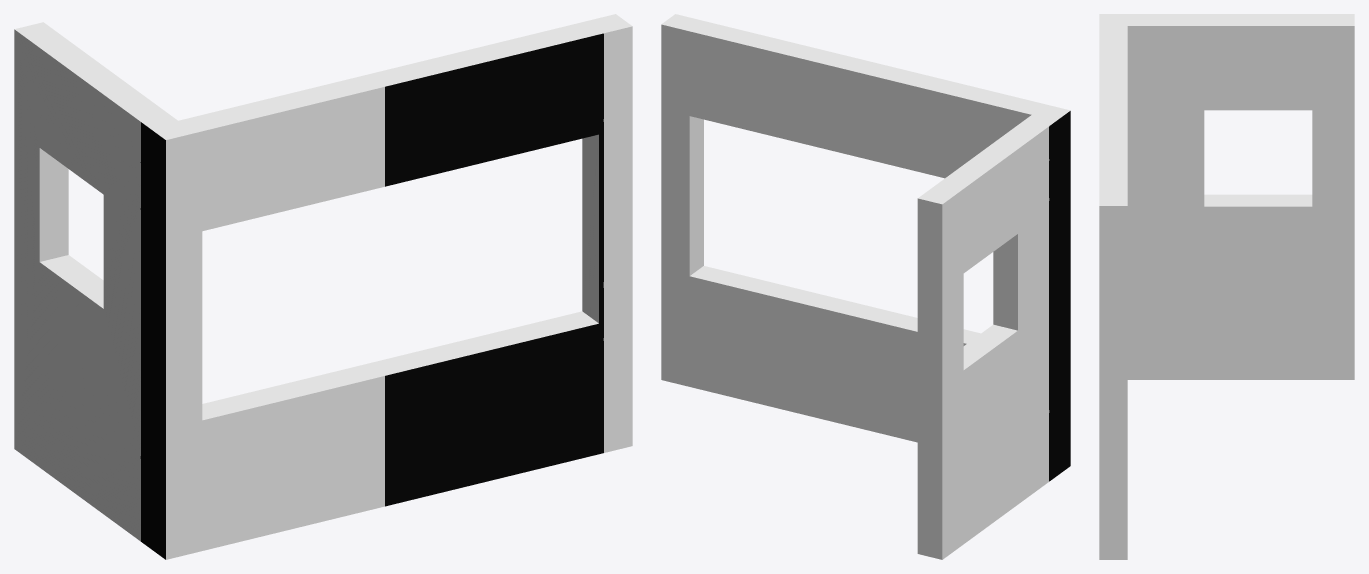
File: c0_BEa_32x18.fbx
The picture shows the model from 3 angles, left to right: view 1: azimuth 30°, elevation 25°; view 2: azimuth 150°, elevation 25°; view 3: azimuth 270°, elevation 25°; orthographic projection. The views are drawn at different scales.
Parts seen in each view (by area): view 1: wall; view 2: wall; view 3: wall.
Boxes of the visible parts, x1=… form: wall: x1=14, y1=14, x2=632, y2=559; wall: x1=661, y1=14, x2=1070, y2=559; wall: x1=1099, y1=14, x2=1354, y2=559.
Size of the model in its own units: 32 by 27.5 by 18.
